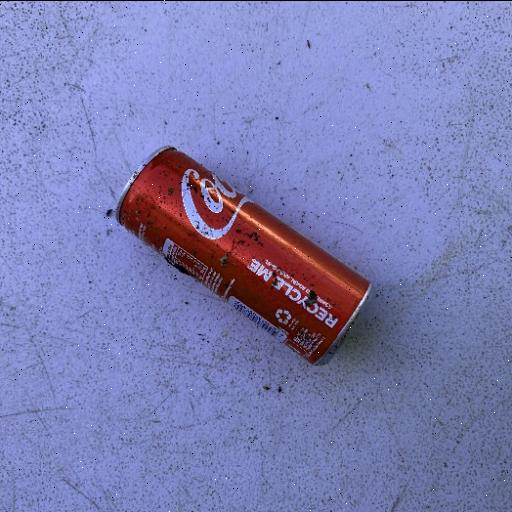Metal: (114, 144, 376, 368)
